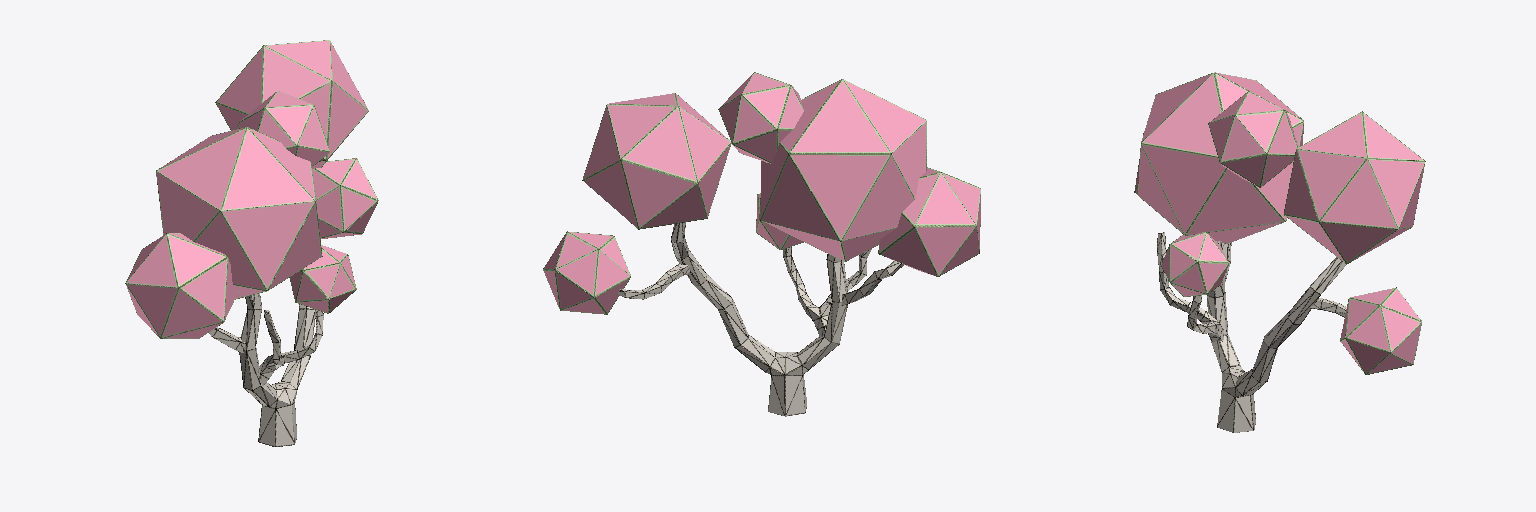
3 views of the same model, side by side, from view 1: azimuth 30°, elevation 25°; view 2: azimuth 150°, elevation 25°; view 3: azimuth 270°, elevation 25° (orthographic).
Visible parts, largest first — view 1: Default; view 2: Default; view 3: Default.
Boxes of the visible parts, box(x1,y1,x2,y2) form: Default: box(125, 40, 378, 446); Default: box(543, 72, 980, 416); Default: box(1134, 72, 1425, 432).
Bounding box in the file's own units: 27.98 × 26.54 × 20.8.
Materials: 2 (1 with a texture image).